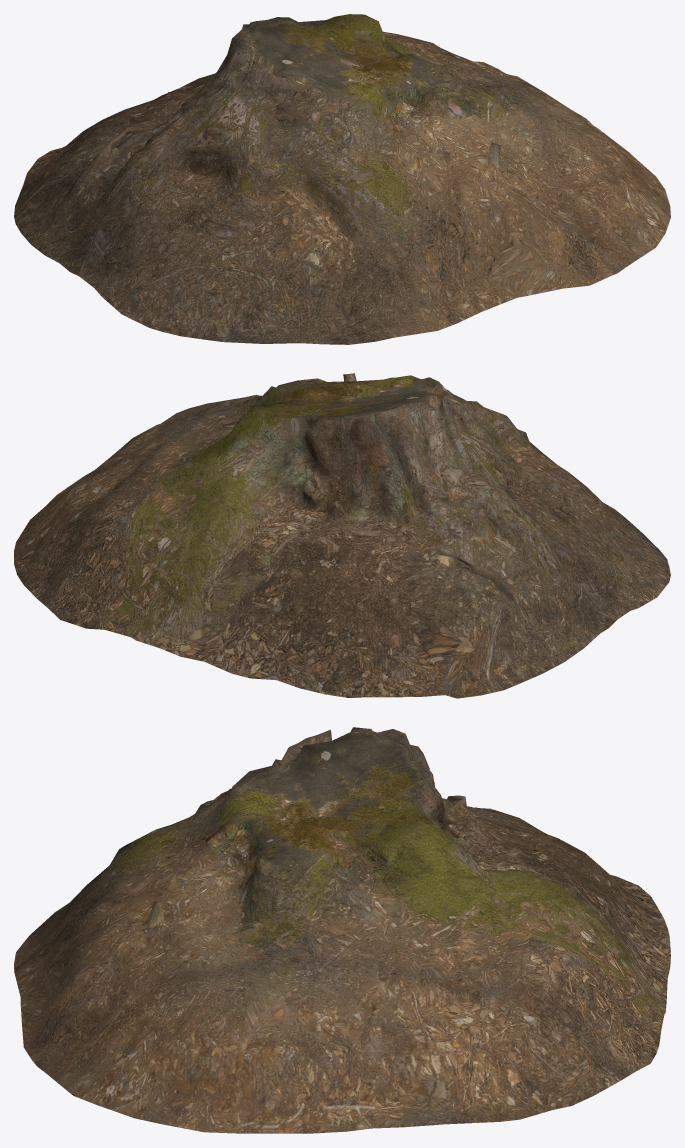
File: kutuk.glb
3 renders of one model, top to bottom at view 1: azimuth 30°, elevation 25°; view 2: azimuth 150°, elevation 25°; view 3: azimuth 270°, elevation 25°, orthographic. The views are drawn at different scales.
Parts seen in each view (by area): view 1: kutuk; view 2: kutuk; view 3: kutuk.
Boxes of the visible parts, box(x1,y1,x2,y2) form: kutuk: box(14, 14, 670, 344); kutuk: box(14, 373, 670, 698); kutuk: box(14, 727, 670, 1133).
Size of the model in its own units: 1.75 by 0.5966 by 1.6.
1 material, 1 textured.
